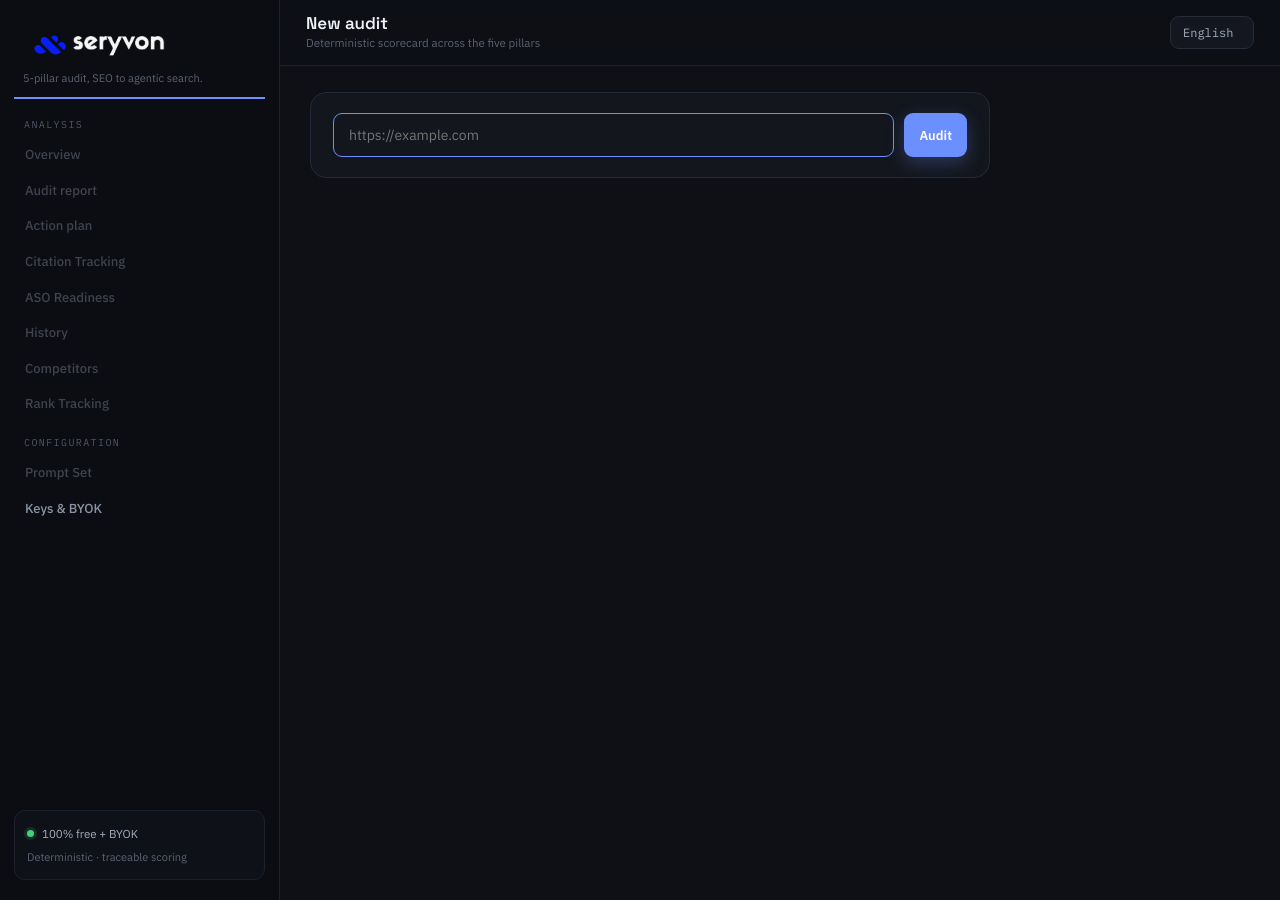
shows the worker error when an audit fails
The width and height of the screenshot is (1280, 900).
In the field named "URL": (614, 135) left=333, top=113, right=894, bottom=157, type "example.com"
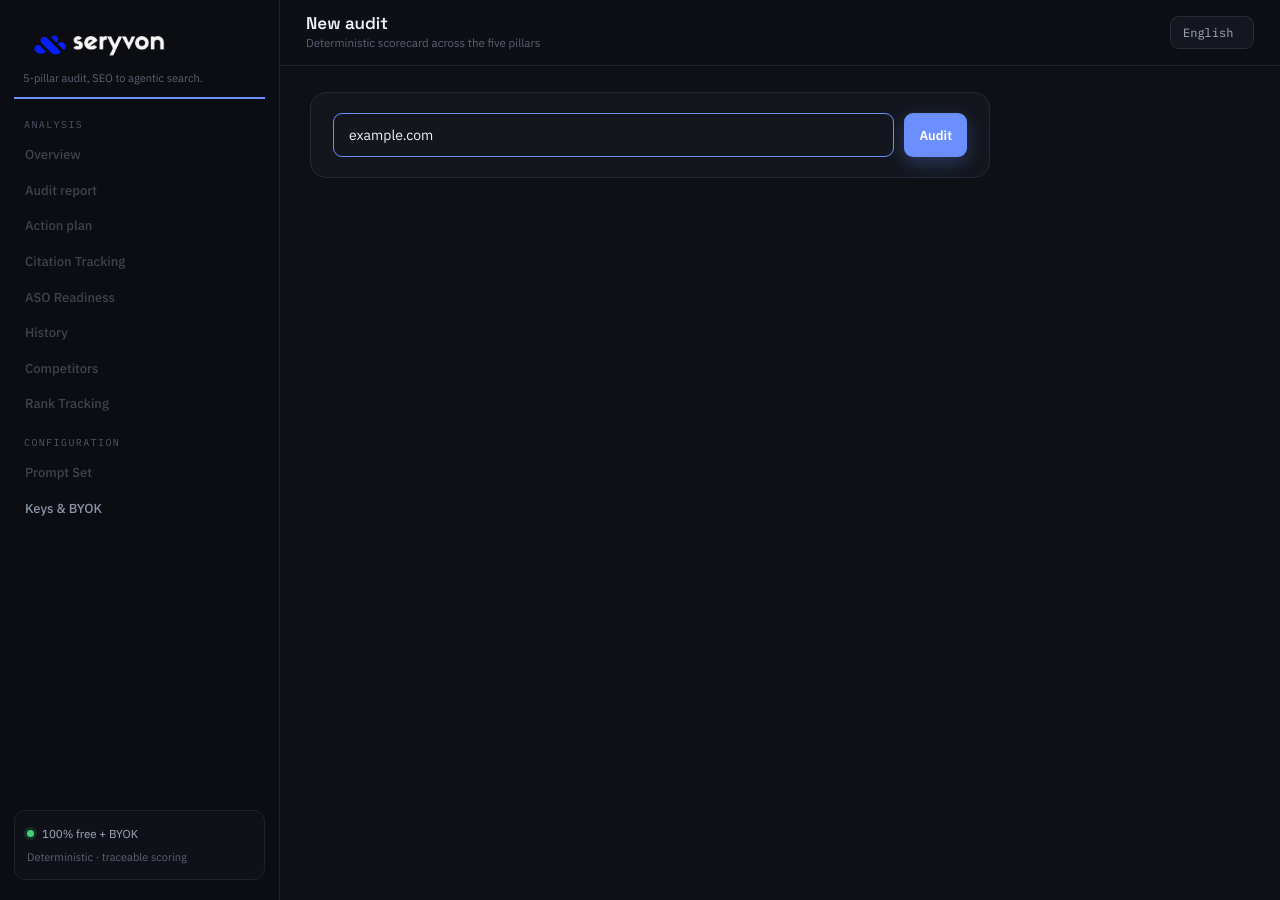
Click the button with class "home-audit-btn": (936, 135) left=904, top=113, right=967, bottom=157
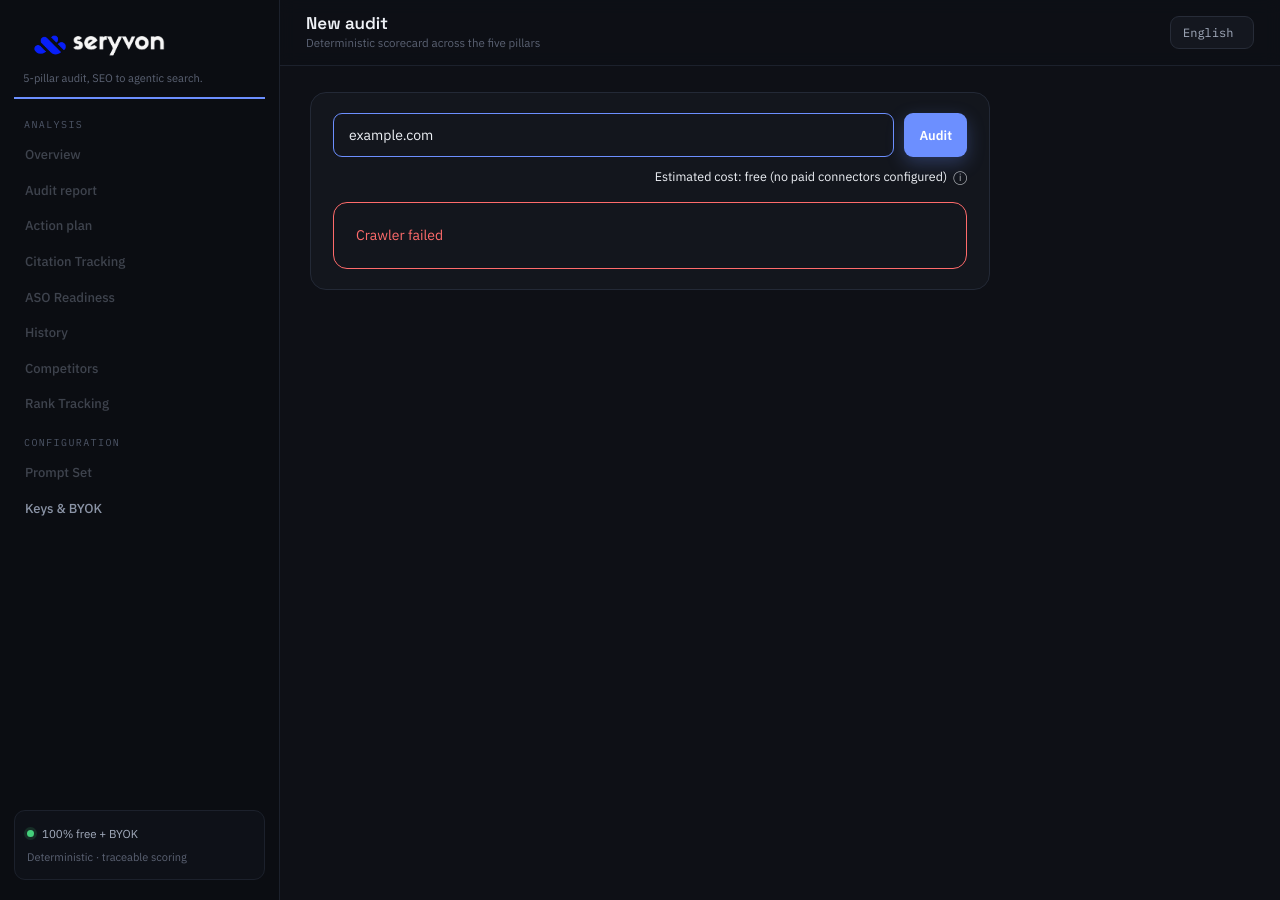
Check: the text "Crawler failed" is shown, box left=333, top=202, right=967, bottom=269
